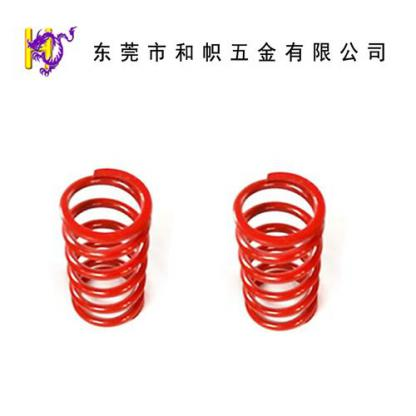FOD: (229, 167, 331, 334), (58, 164, 155, 331)
